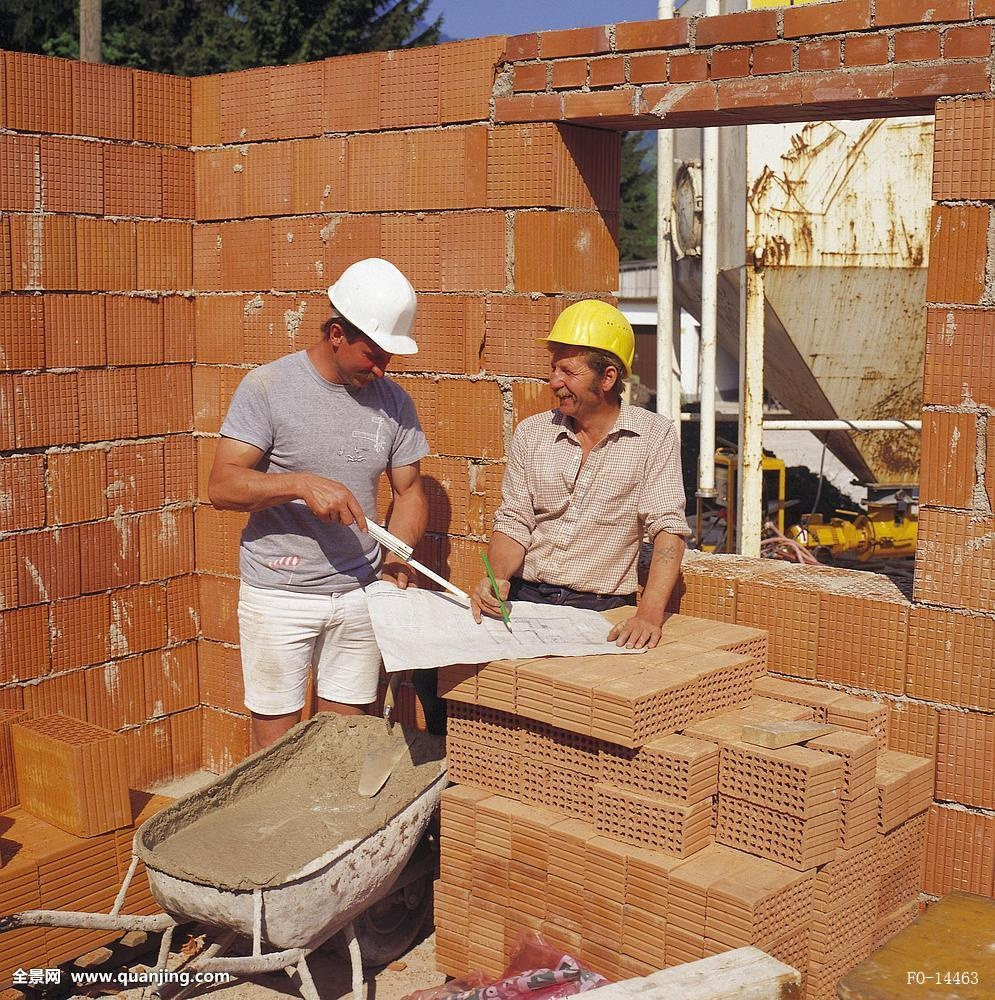white: (317, 256, 424, 391)
yellow: (538, 300, 638, 425)
